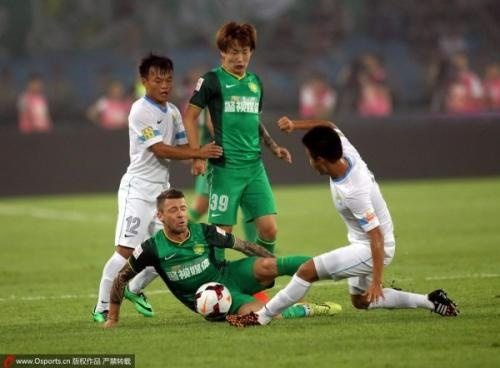falling: (239, 109, 469, 329)
